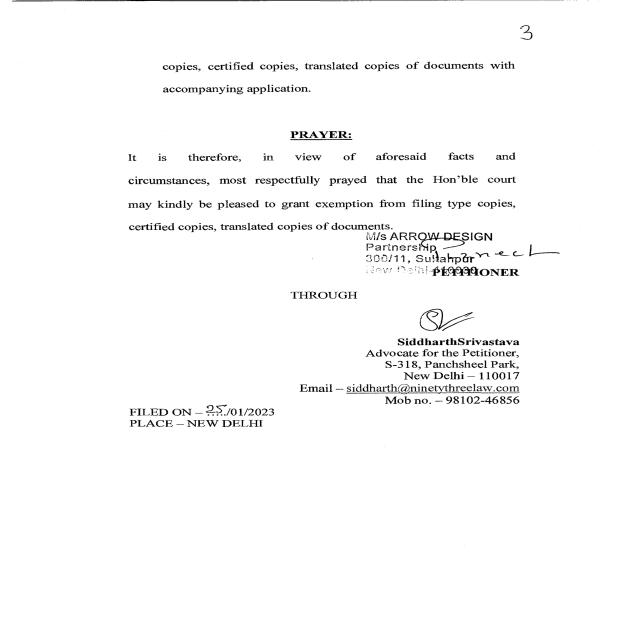page-number: (471, 3, 640, 59)
